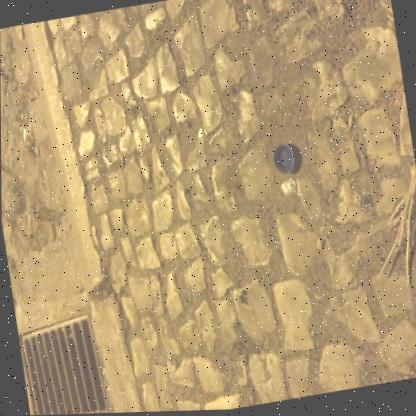Metal: (280, 179, 295, 197)
Waste: (272, 144, 293, 174), (28, 212, 30, 225)
